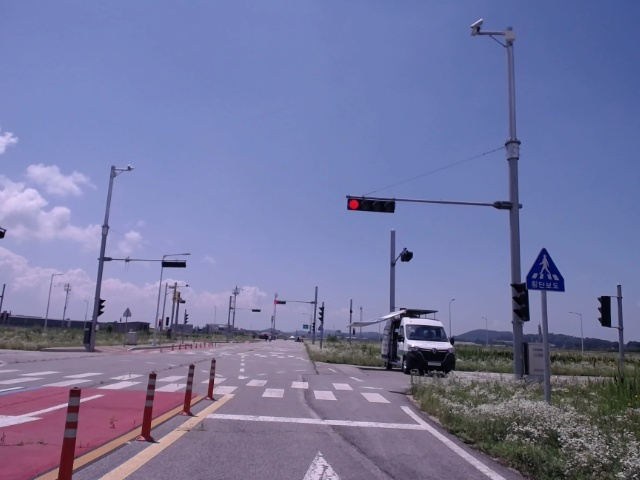red_4: (346, 199, 394, 213)
